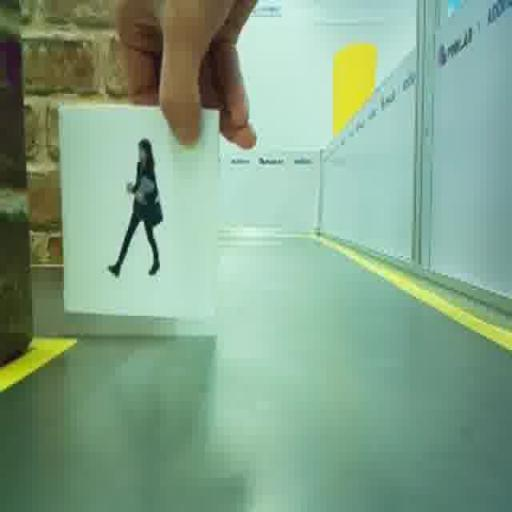human: (108, 139, 162, 275)
